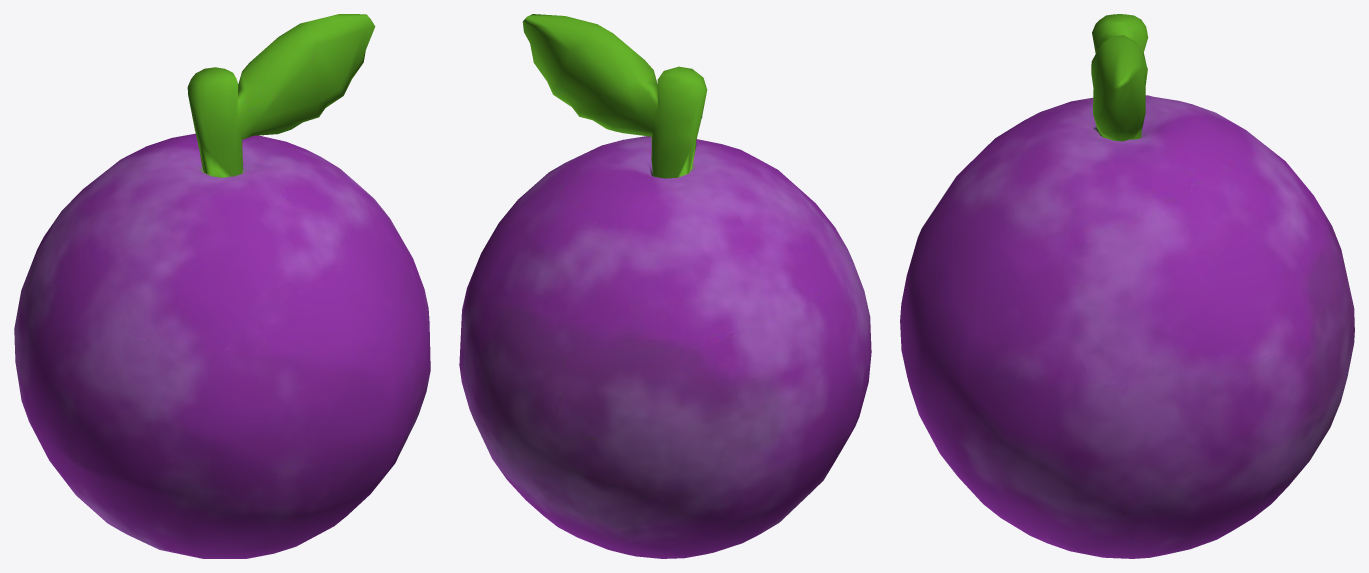
Rendered from plum.glb.
The picture shows the model from 3 angles, left to right: view 1: azimuth 30°, elevation 25°; view 2: azimuth 150°, elevation 25°; view 3: azimuth 270°, elevation 25°; orthographic projection. The views are drawn at different scales.
Visible parts, largest first — view 1: tripo_node_a691d92a-b067-4c6e-afb7-11ad08066f36; view 2: tripo_node_a691d92a-b067-4c6e-afb7-11ad08066f36; view 3: tripo_node_a691d92a-b067-4c6e-afb7-11ad08066f36.
Part boxes in pixels (<box>): tripo_node_a691d92a-b067-4c6e-afb7-11ad08066f36: <box>14,14,430,558</box>; tripo_node_a691d92a-b067-4c6e-afb7-11ad08066f36: <box>459,14,871,558</box>; tripo_node_a691d92a-b067-4c6e-afb7-11ad08066f36: <box>900,14,1354,558</box>.
Size of the model in its own units: 0.7424 by 0.9799 by 0.745.
1 material, 1 textured.
